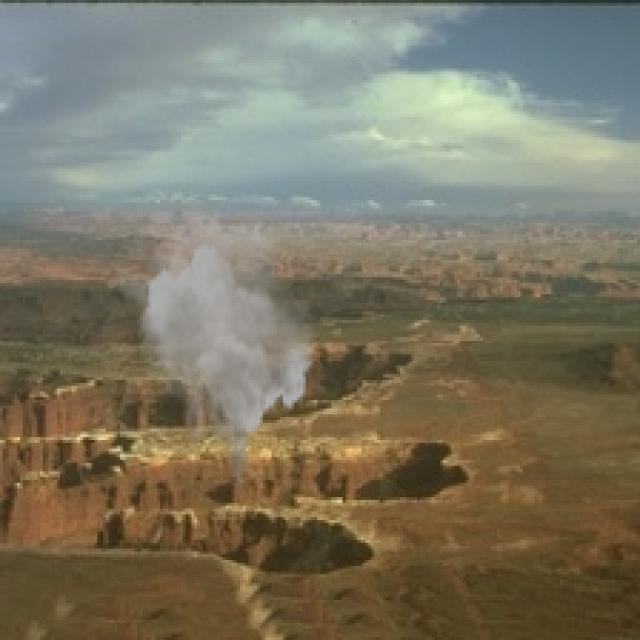Smoke: (111, 206, 318, 488)
